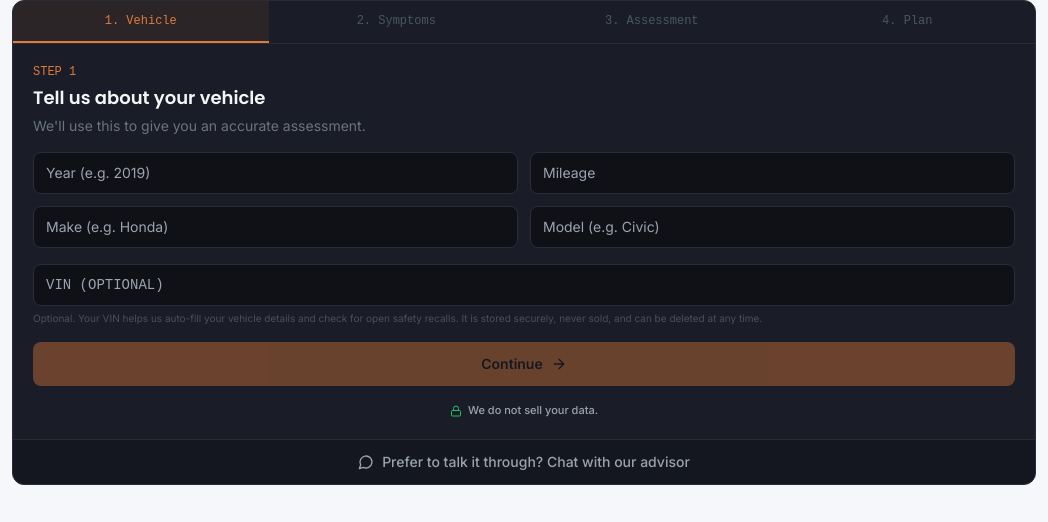
Scenario: Assessment Flow — Invalid VIN › shows fallback message when VIN decode fails
Type "1HGBH41JXMN109186" into the field with placeholder "VIN (optional)" at (524, 285), box [33, 264, 1015, 306]
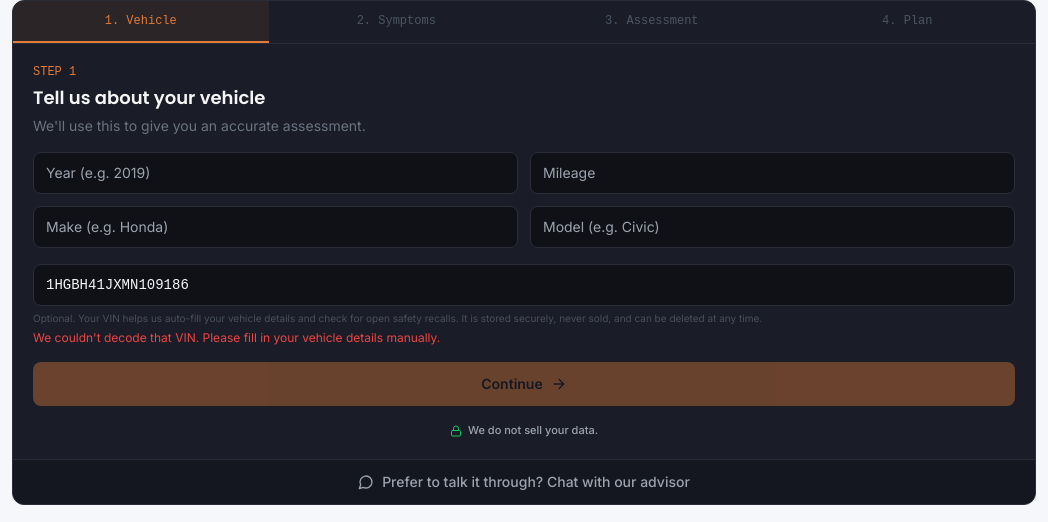
Expected: the field with placeholder "Year (e.g. 2019)" is enabled, [33, 152, 518, 194]
Expected: the text "couldn't decode that VIN" is shown, [33, 330, 440, 345]
